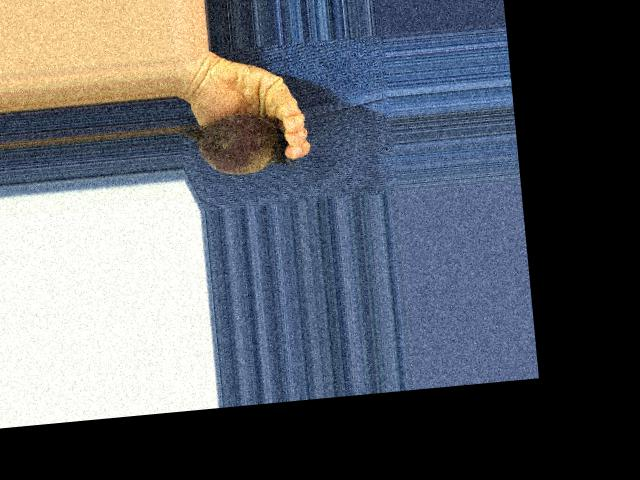beet: (179, 107, 296, 179)
